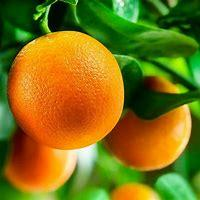orange: (0, 25, 126, 146), (99, 70, 187, 158)
